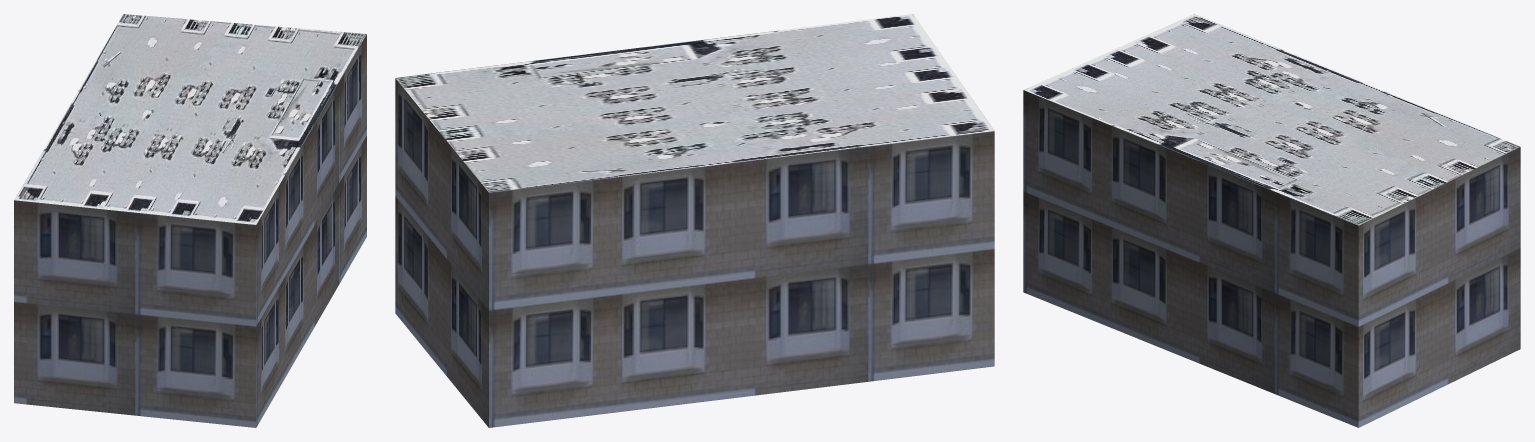
File: ResTex__499.fbx
3 views of the same model, side by side, from view 1: azimuth 30°, elevation 25°; view 2: azimuth 150°, elevation 25°; view 3: azimuth 270°, elevation 25° (orthographic). The views are drawn at different scales.
Visible parts, largest first — view 1: CityEngineMaterial_3_m, CityEngineMaterial_4_m; view 2: CityEngineMaterial_3_m, CityEngineMaterial_4_m; view 3: CityEngineMaterial_3_m, CityEngineMaterial_4_m.
Part boxes in pixels (<box>): CityEngineMaterial_3_m: <box>14,34,366,427</box>; CityEngineMaterial_4_m: <box>14,14,366,224</box>; CityEngineMaterial_3_m: <box>395,78,994,427</box>; CityEngineMaterial_4_m: <box>395,14,994,192</box>; CityEngineMaterial_3_m: <box>1023,90,1520,427</box>; CityEngineMaterial_4_m: <box>1024,14,1520,225</box>.
Size of the model in its own units: 13.45 by 6 by 13.36.
Materials: 2 (2 with a texture image).
